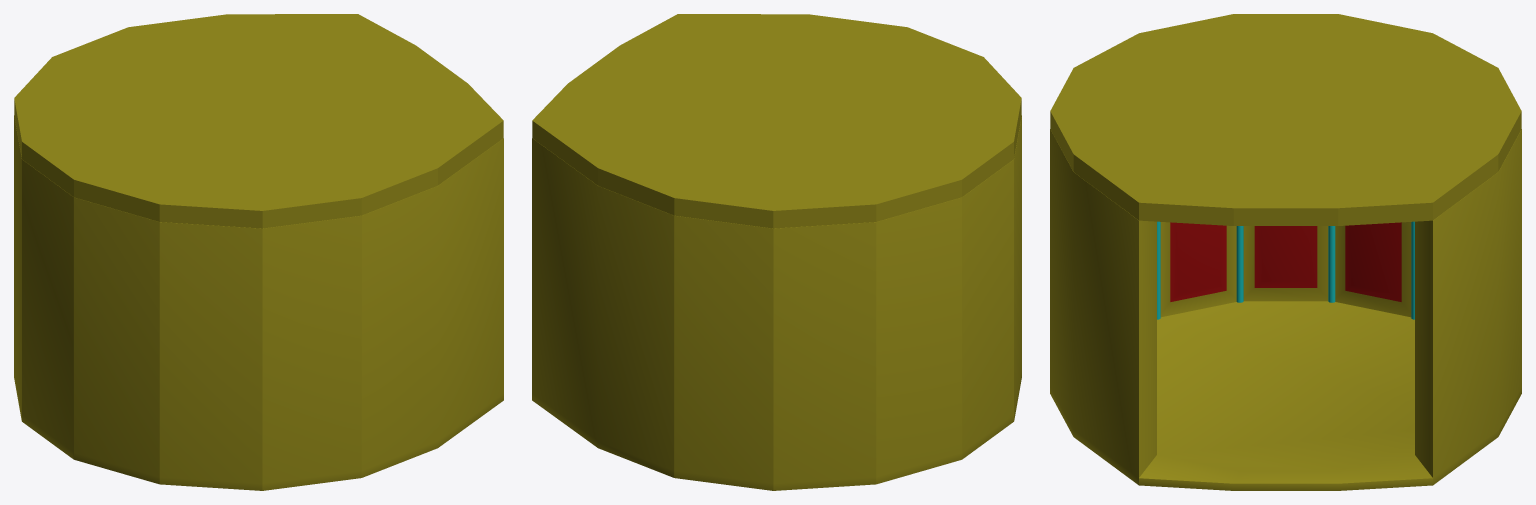
Rendered from salle.fbx.
The picture shows the model from 3 angles, left to right: view 1: azimuth 30°, elevation 25°; view 2: azimuth 150°, elevation 25°; view 3: azimuth 270°, elevation 25°; orthographic projection.
Parts seen in each view (by area): view 1: Cylinder061; view 2: Cylinder061; view 3: Cylinder061.
Part boxes in pixels (x1,y1,x2,y2): Cylinder061: (14,14,503,490); Cylinder061: (532,14,1021,490); Cylinder061: (1050,14,1521,490).
Bounding box in the file's own units: 2475 × 1679 × 2539.
